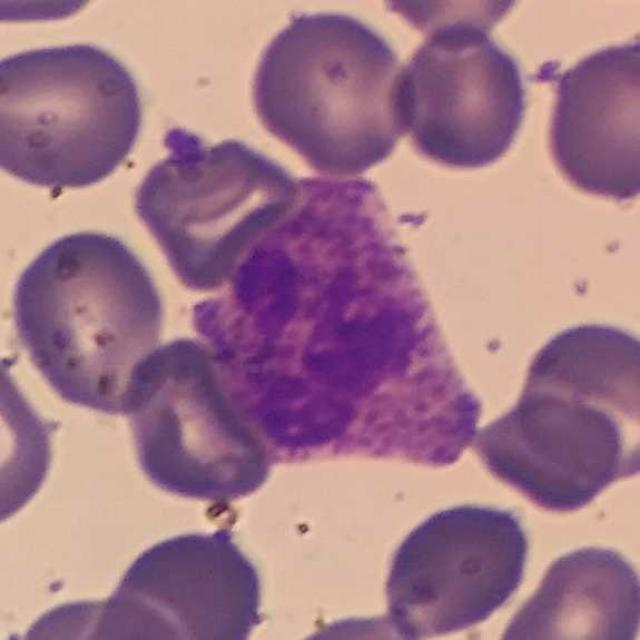Neutrophil: (193, 172, 490, 470)
RBC: (2, 219, 174, 423), (117, 334, 288, 517), (243, 1, 417, 178), (0, 32, 152, 196), (136, 133, 298, 285), (383, 19, 535, 176), (375, 492, 535, 640), (510, 312, 640, 491), (100, 517, 286, 640), (466, 388, 628, 516), (538, 25, 640, 207), (489, 536, 640, 639), (0, 342, 65, 534), (4, 589, 186, 640), (264, 604, 461, 640), (373, 0, 535, 42), (0, 0, 124, 29)
